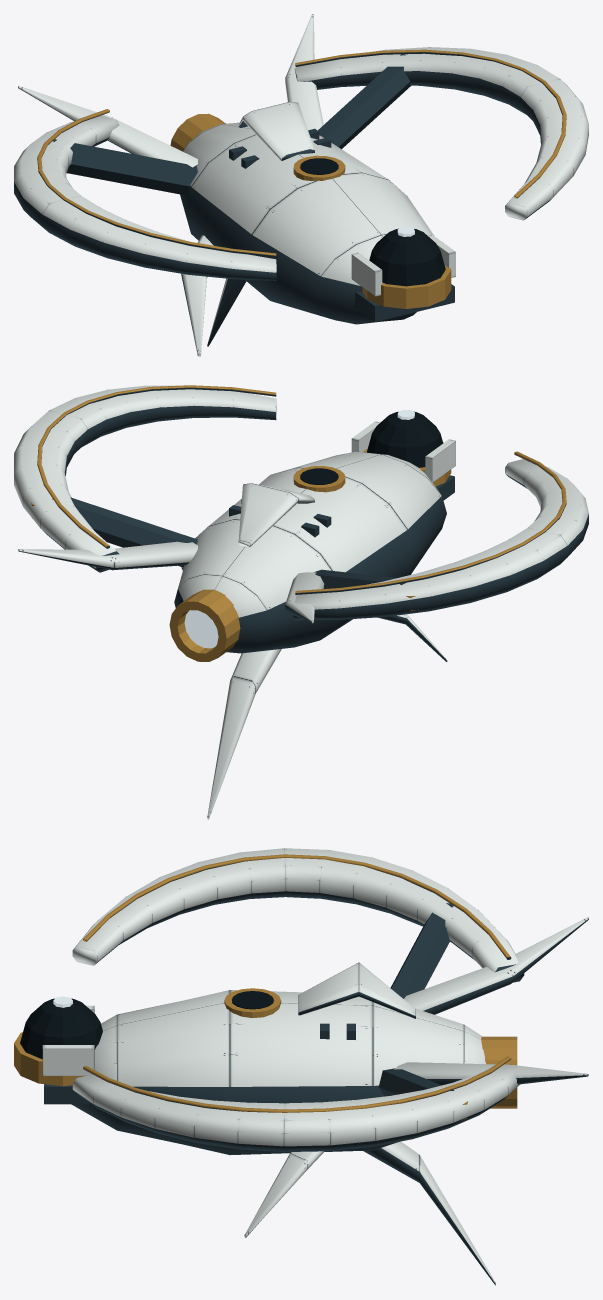
The model's file is pioneer-europa-l09-shield.glb.
3 views of the same model, one above another, from view 1: azimuth 30°, elevation 25°; view 2: azimuth 150°, elevation 25°; view 3: azimuth 270°, elevation 25° (orthographic). The views are drawn at different scales.
Parts seen in each view (by area): view 1: Drone; view 2: Drone; view 3: Drone.
Part boxes in pixels (x1=…): Drone: x1=14, y1=14, x2=588, y2=356; Drone: x1=14, y1=385, x2=588, y2=819; Drone: x1=14, y1=848, x2=588, y2=1285.
Bounding box in the file's own units: 1.75 × 0.9071 × 1.52.
3 materials, 3 textured.
